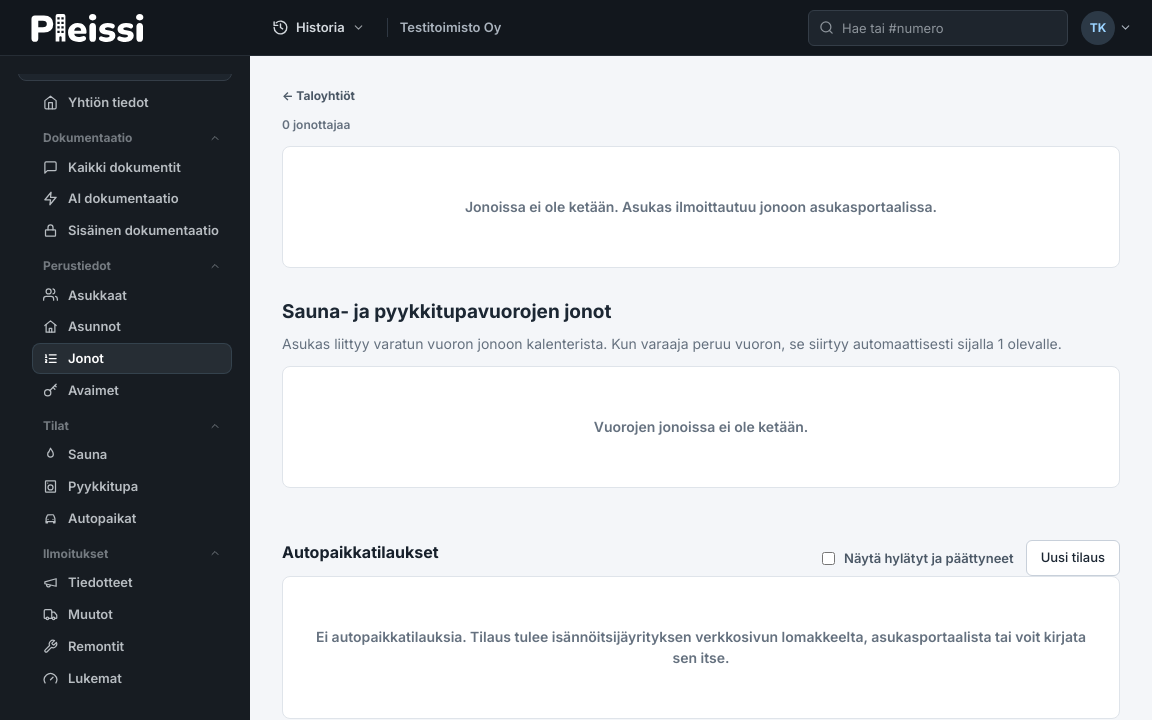
Test: sovellus › sulkee ja avaa alavalikon ryhmän ja muistaa valinnan
(page scrolled)
Expected: the button "Pyykkitupa" is shown, [32,471,232,502]
Click the button titled "Piilota Tilat" at (132, 426), box [32,413,232,438]
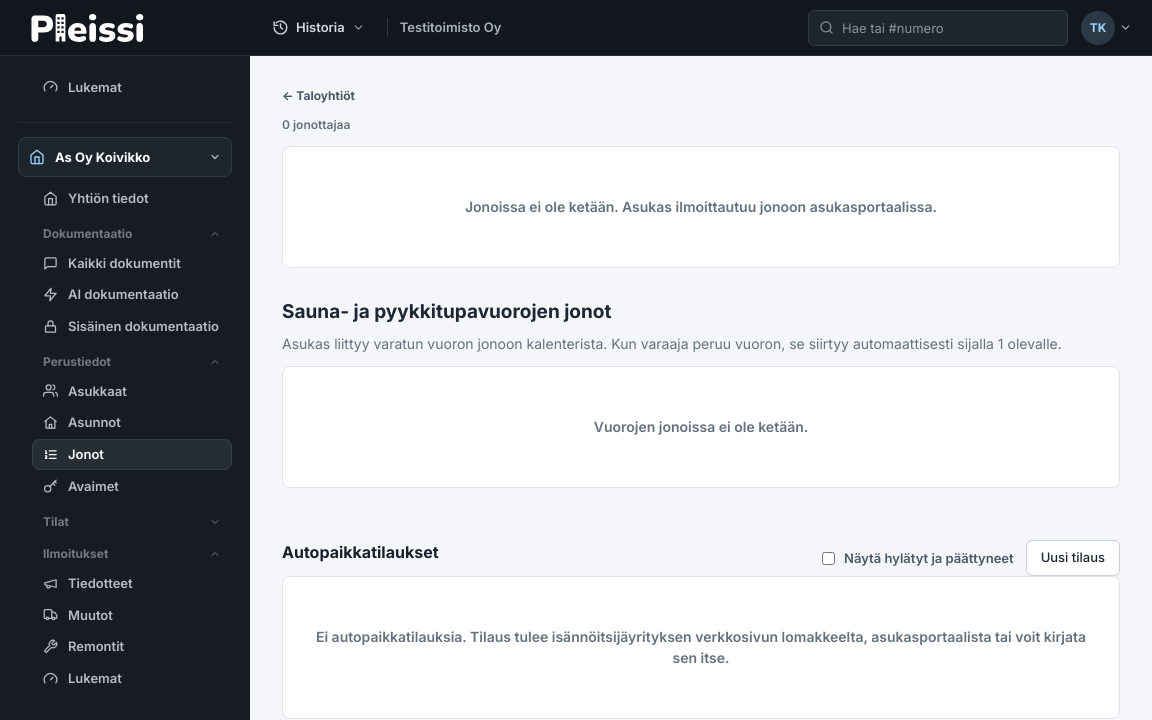
Expected: the button "Tiedotteet" is shown, [32,568,232,598]
Click the button titled "Näytä Tilat" at (132, 522), box [32,509,232,534]
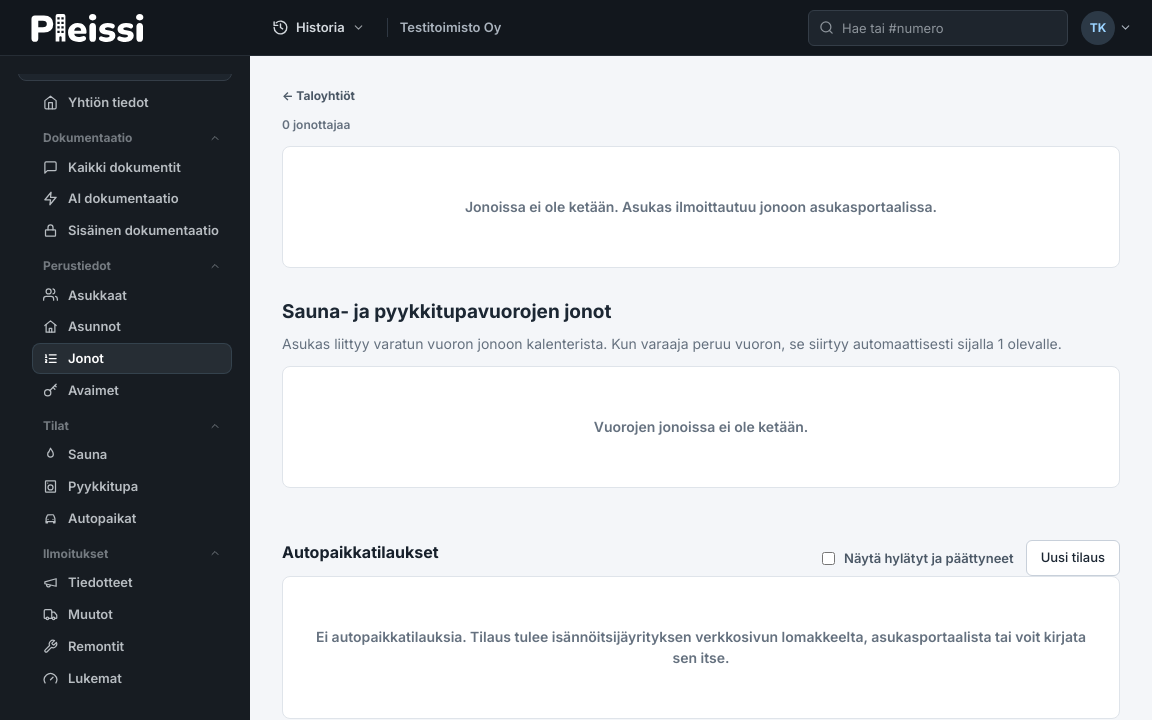
Result: the button "Pyykkitupa" is shown at [32,471,232,502]
